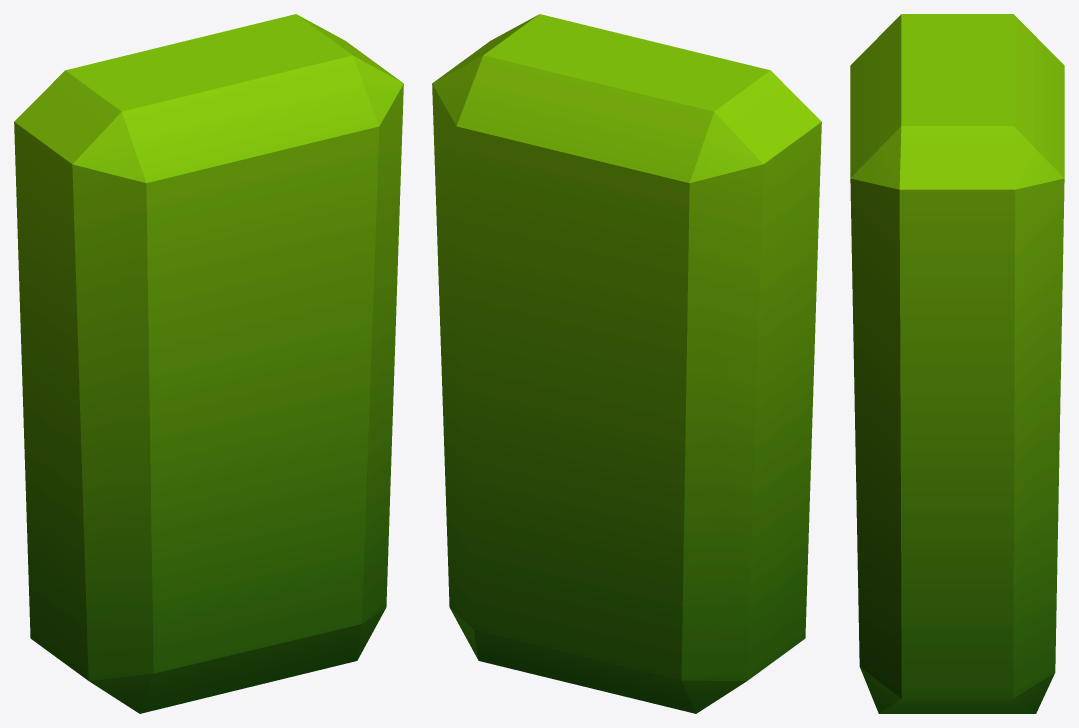
Rendered from emerald.glb.
3 views of the same model, side by side, from view 1: azimuth 30°, elevation 25°; view 2: azimuth 150°, elevation 25°; view 3: azimuth 270°, elevation 25° (orthographic).
Parts seen in each view (by area): view 1: SM_Emerald_Gem2; view 2: SM_Emerald_Gem2; view 3: SM_Emerald_Gem2.
Boxes of the visible parts, <box> form: SM_Emerald_Gem2: <box>14,14,403,713</box>; SM_Emerald_Gem2: <box>432,14,821,713</box>; SM_Emerald_Gem2: <box>850,14,1064,713</box>.
Size of the model in its own units: 0.2511 by 0.4312 by 0.1415.
Materials: 1 (1 with a texture image).
